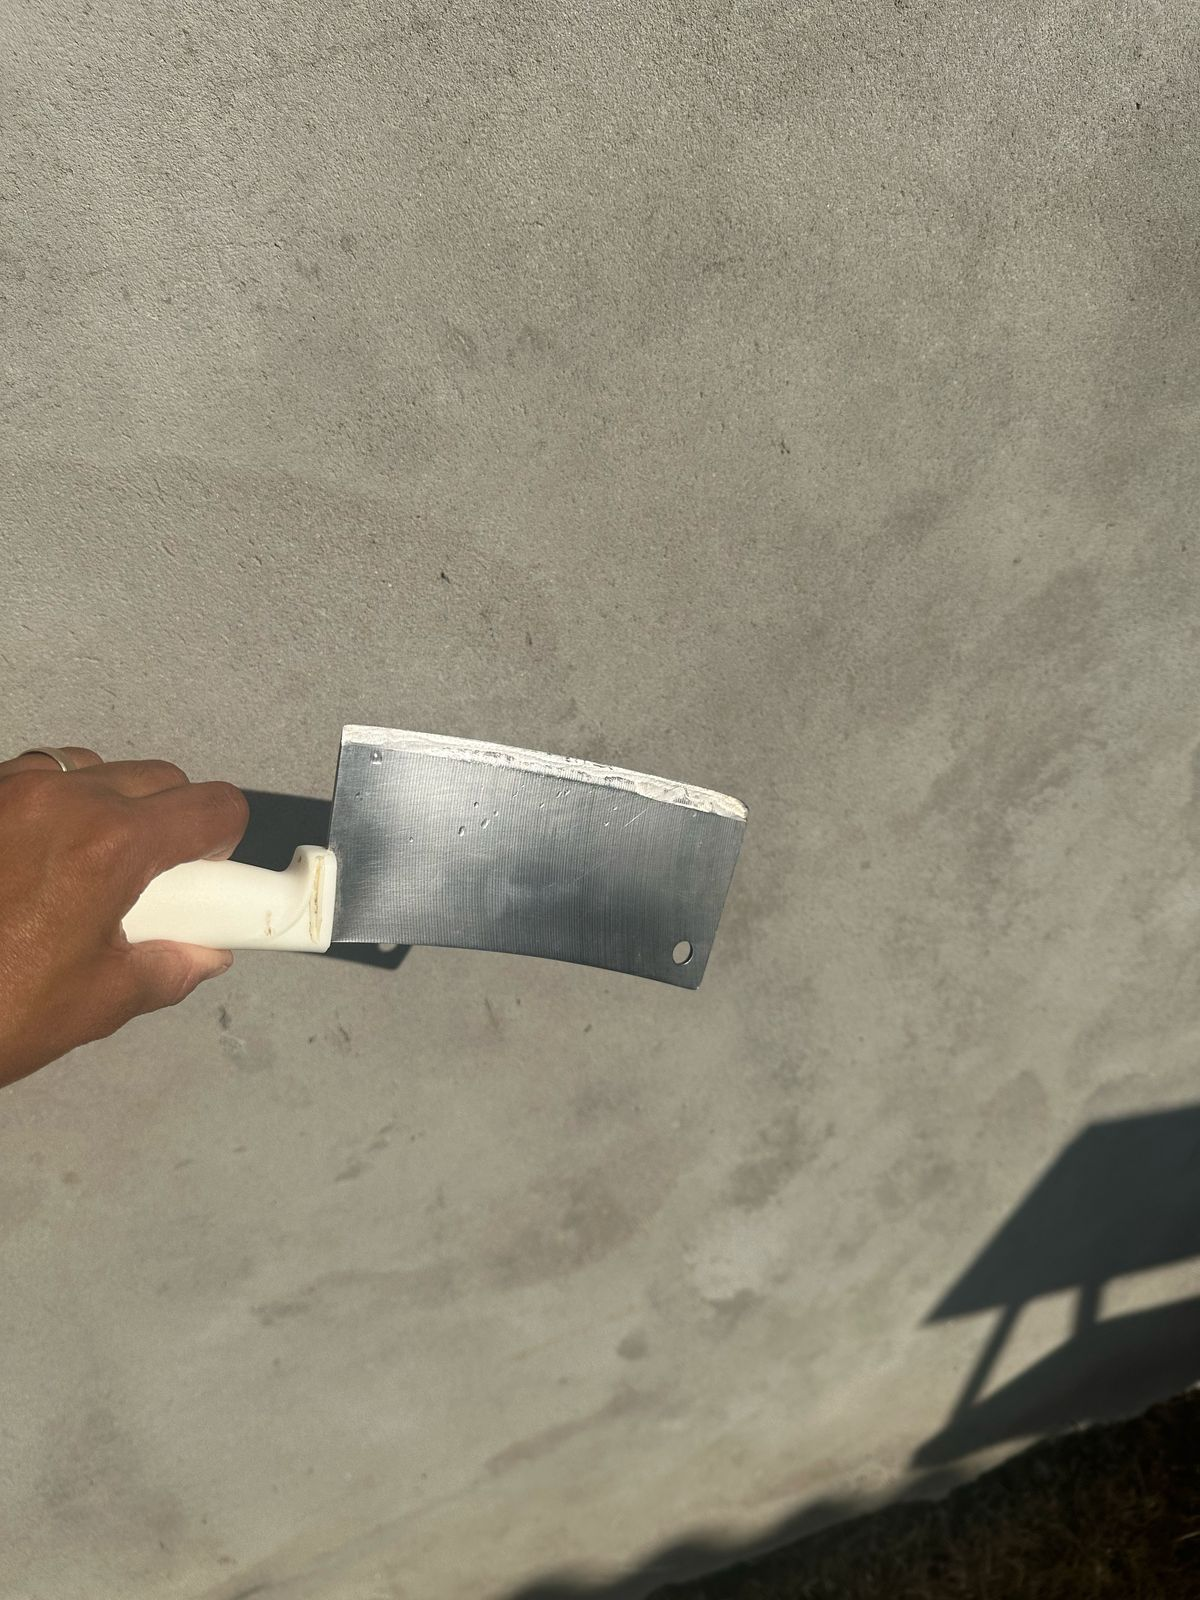faca: (250, 722, 778, 1001)
